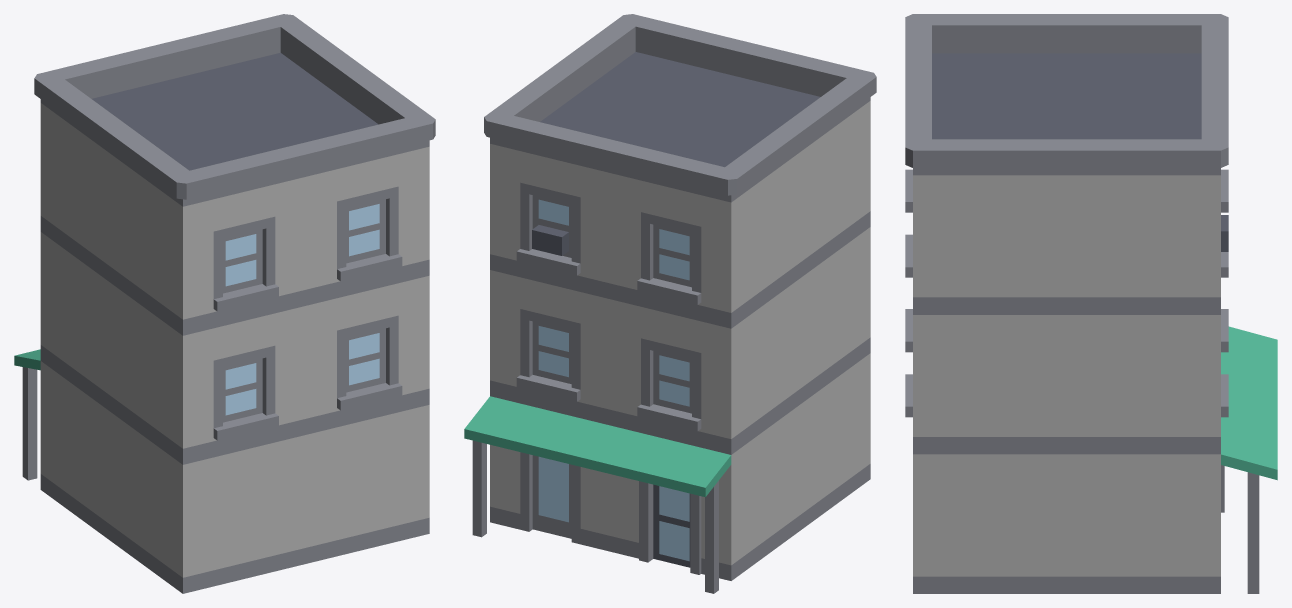
The model's file is shop-tall.glb.
3 views of the same model, side by side, from view 1: azimuth 30°, elevation 25°; view 2: azimuth 150°, elevation 25°; view 3: azimuth 270°, elevation 25° (orthographic). The views are drawn at different scales.
Visible parts, largest first — view 1: small_buildingD; view 2: small_buildingD; view 3: small_buildingD.
Part boxes in pixels (box(x1,y1,x2,y2)): small_buildingD: box(14, 14, 435, 593); small_buildingD: box(464, 14, 876, 593); small_buildingD: box(905, 14, 1277, 593).
Size of the model in its own units: 0.8399 by 1.28 by 0.968.
